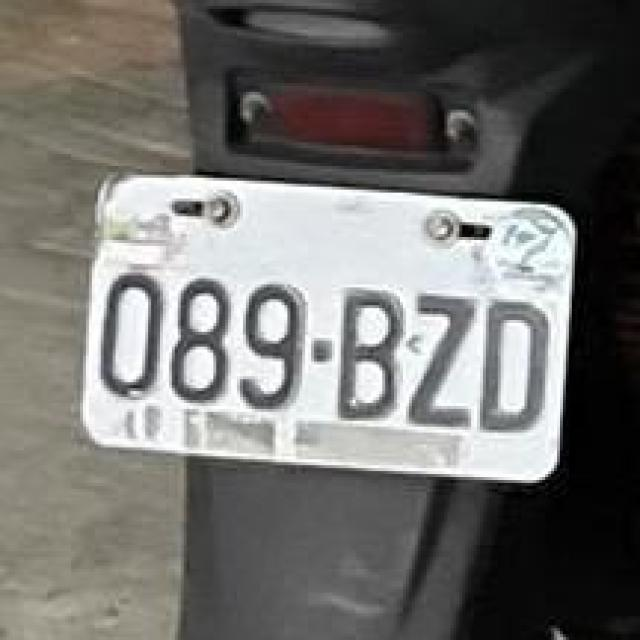W: (79, 170, 576, 488)
